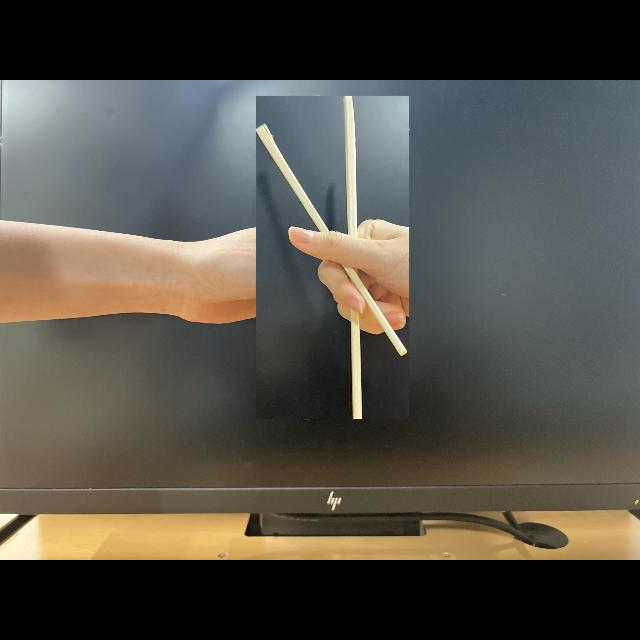stick: (256, 96, 409, 418)
